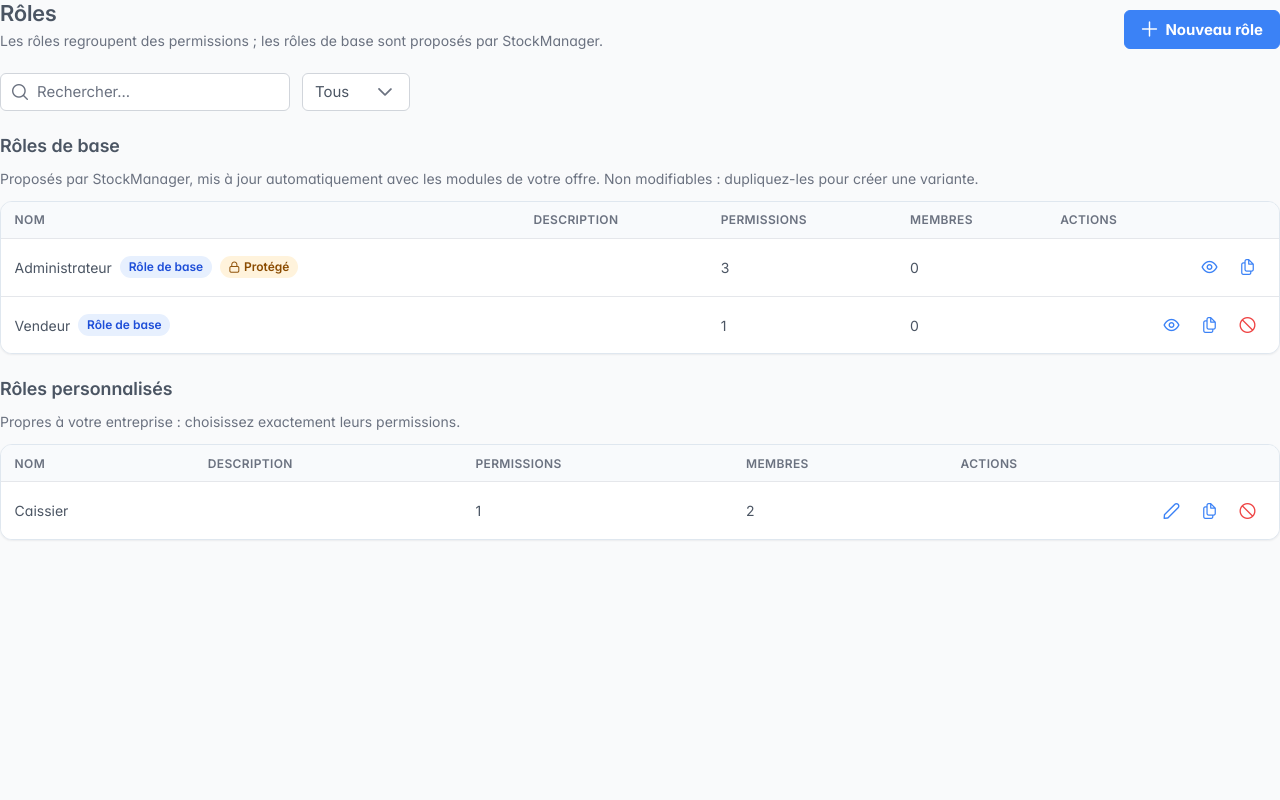
Scenario: page Rôles › affiche un rôle de base en lecture seule, avec ses permissions venues de l’API
Click the button named "Consulter" in the row of "Vendeur" at (1171, 325), box [1153,307,1189,343]
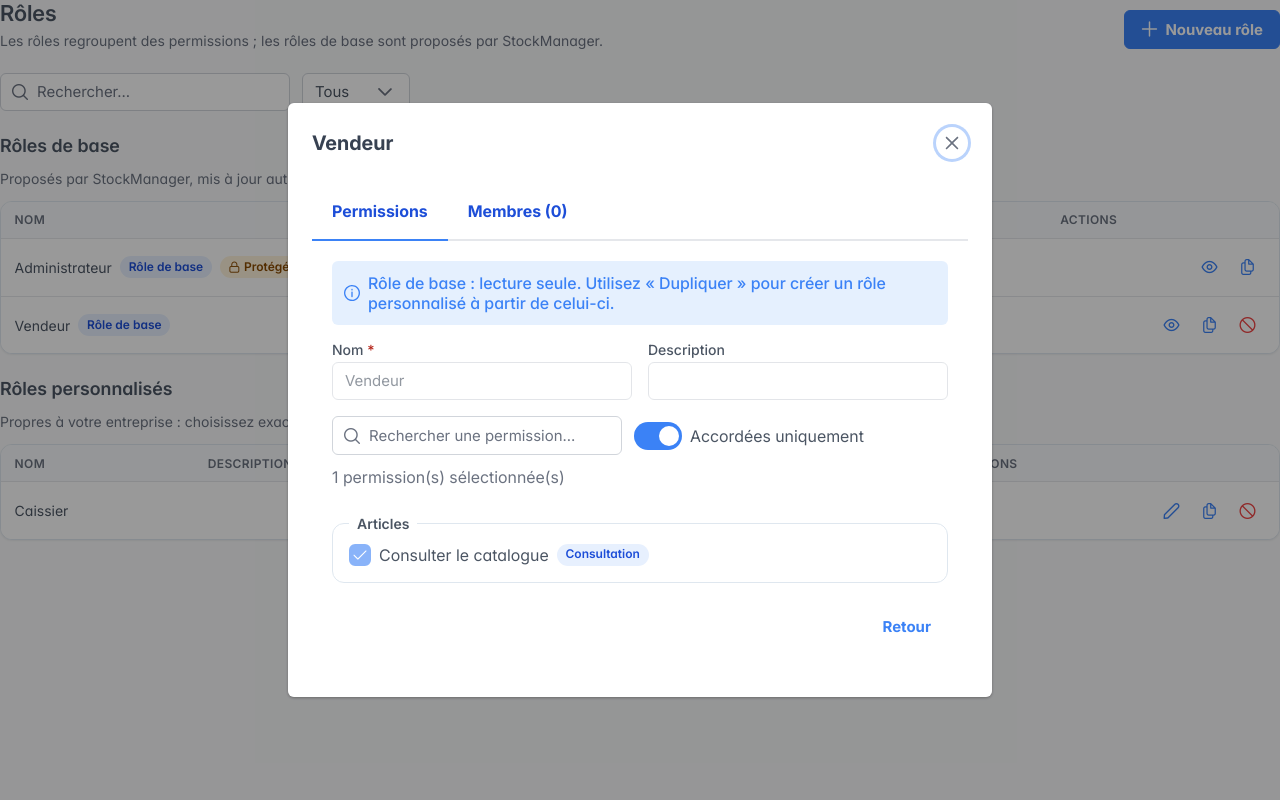
Check: the text "Rôle de base : lecture seule" is shown, box [368,273,886,313]
Check: the checkbox labelled "Consulter le catalogue" is disabled, box [379,545,549,565]
